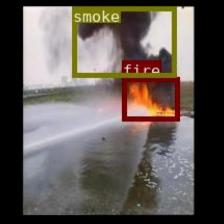fire: (122, 76, 178, 120)
smoke: (71, 6, 175, 77)
